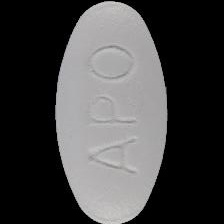68788-9556: (0, 0, 224, 224)
